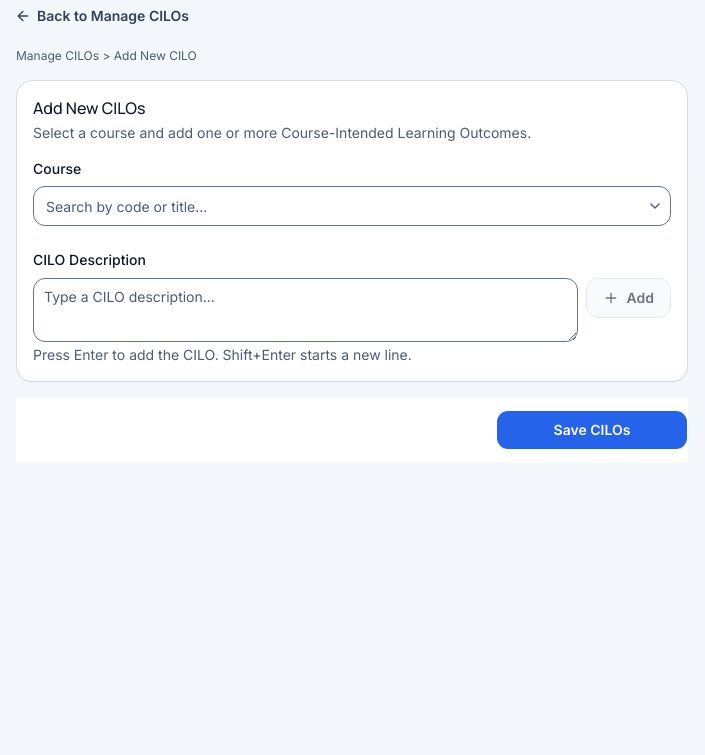
AddCiloForm › shows both field errors on empty save and clears them when corrected
Click the button "Save CILOs" at (592, 430), box [496,410,688,450]
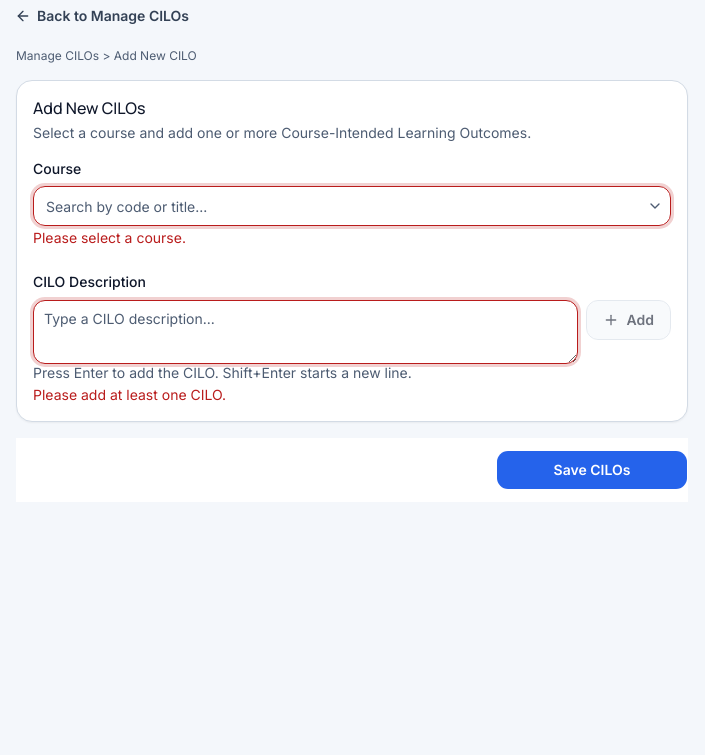
expect the text box labelled "CILO Description" is marked as invalid: met
expect the text box labelled "CILO Description" has attribute aria-describedby="cilo-cilos-error": met
Type "Design instruction" into the text box labelled "CILO Description" at (305, 332), box [33,300,578,364]
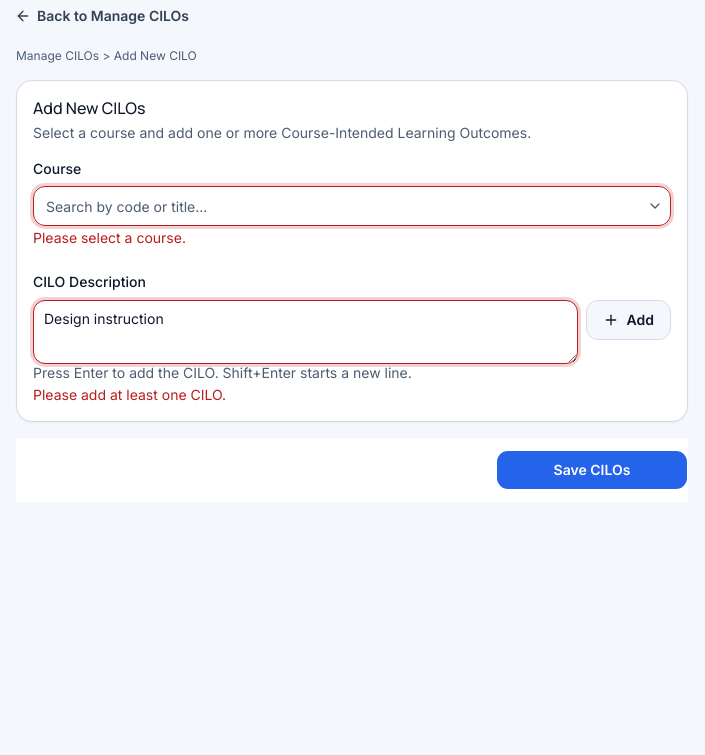
Click the button "Add" at (628, 320), box [586,300,671,340]
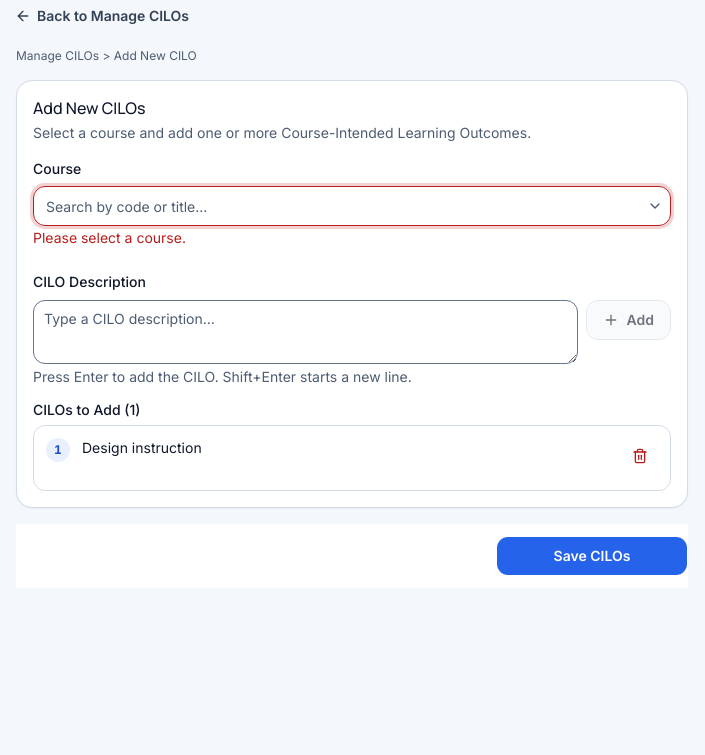
expect the text "Please add at least one CILO." is gone: met
Type "CS101" into the dropdown labelled "Course" at (338, 206), box [34,186,643,226]
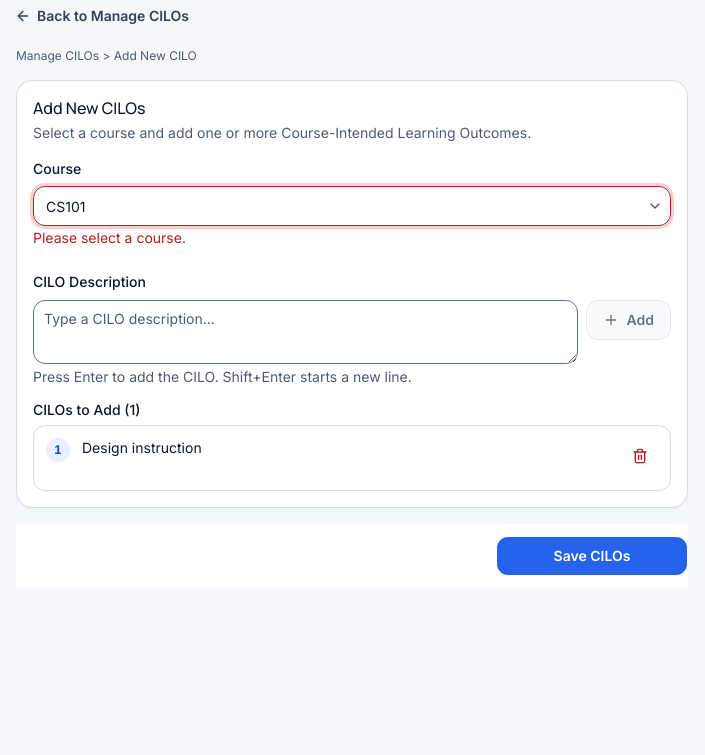
Press ArrowDown in the dropdown labelled "Course", box [34,186,643,226]
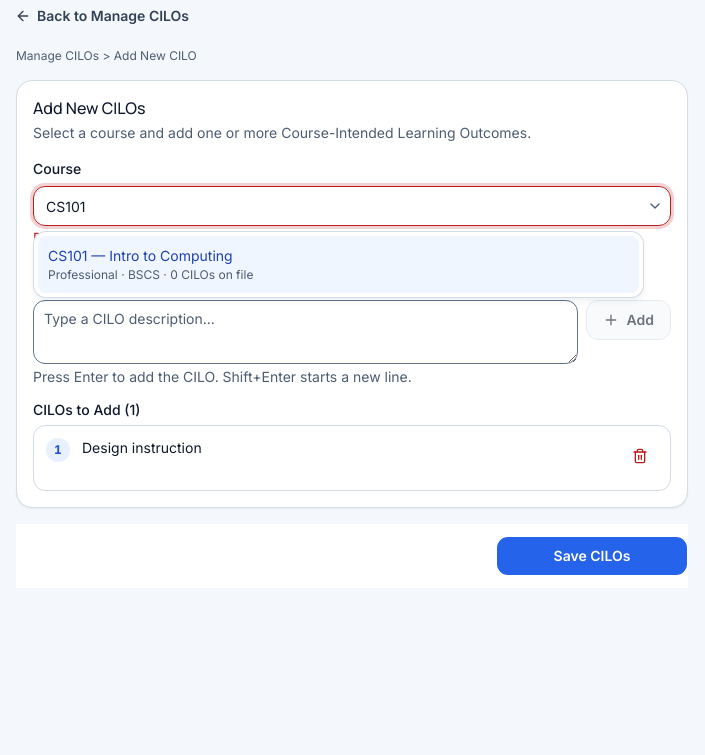
Click the option "CS101" at (140, 256), box [38,236,639,293]
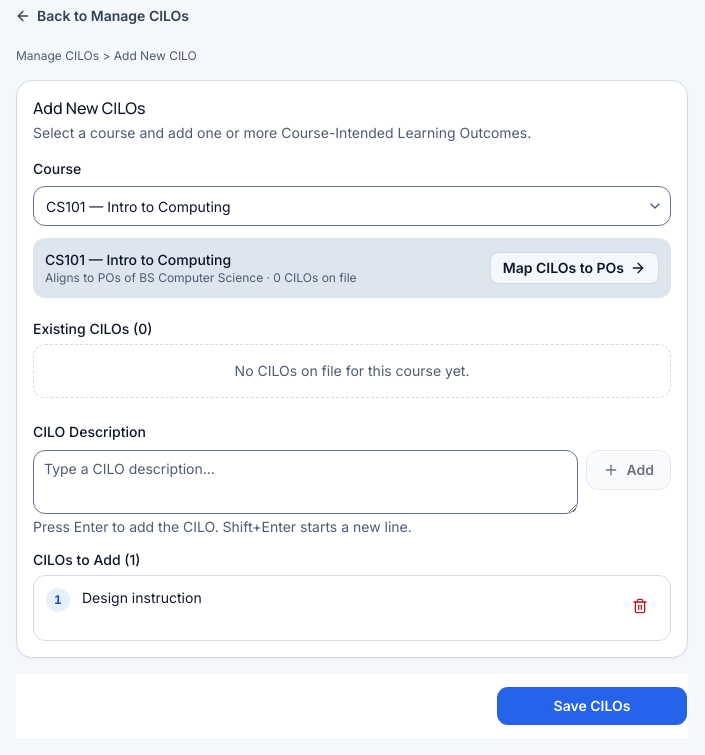
expect the text "Please select a course." is gone: met
